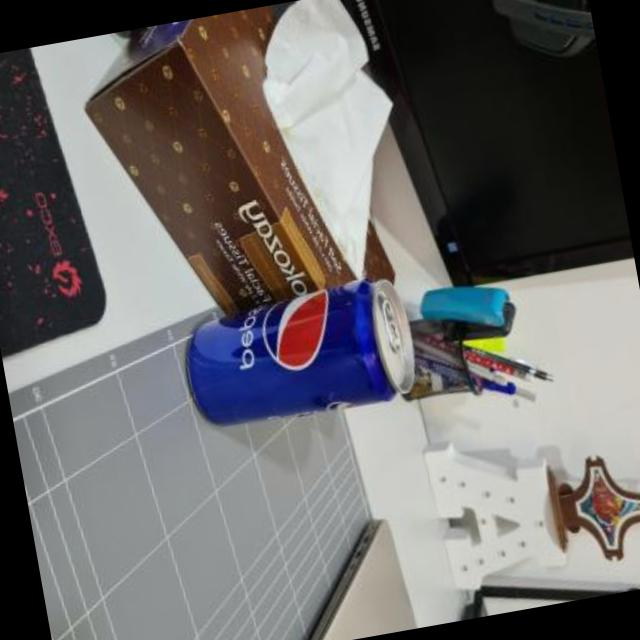cardboard paper: (264, 0, 392, 275)
metal: (188, 279, 415, 425)
